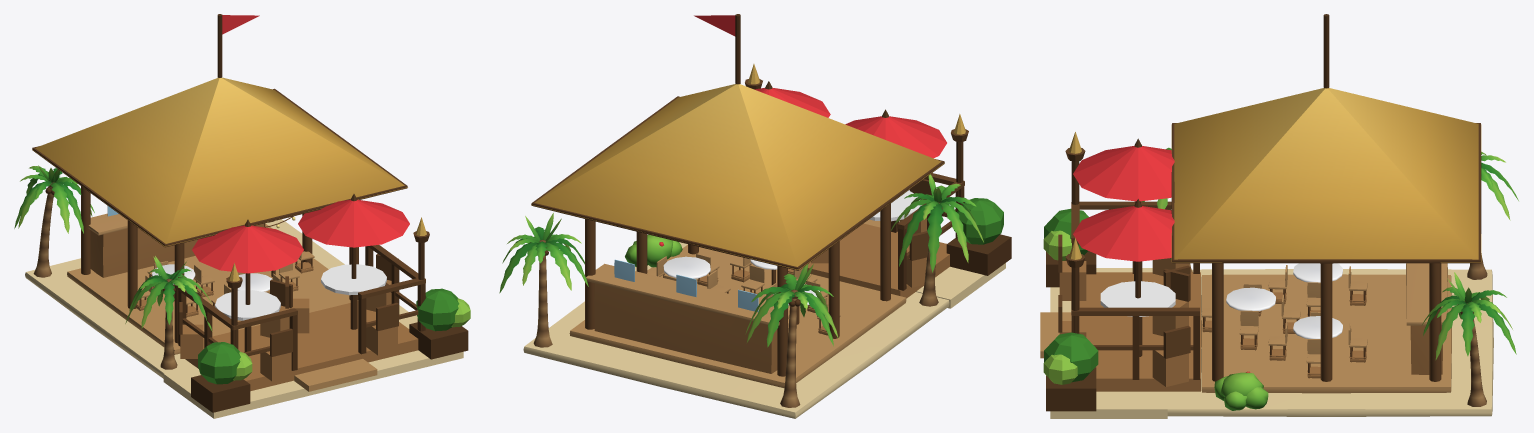
Rendered from Restaurant_L2.obj.
3 renders of one model, left to right at view 1: azimuth 30°, elevation 25°; view 2: azimuth 150°, elevation 25°; view 3: azimuth 270°, elevation 25°, orthographic. The views are drawn at different scales.
Parts seen in each view (by area): view 1: Restaurant_L2; view 2: Restaurant_L2; view 3: Restaurant_L2.
Part boxes in pixels (x1=…): Restaurant_L2: x1=14, y1=14, x2=470, y2=418; Restaurant_L2: x1=499, y1=14, x2=1011, y2=418; Restaurant_L2: x1=1040, y1=14, x2=1518, y2=418.
Size of the model in its own units: 4.9 by 4.39 by 5.73.
Materials: 1 (1 with a texture image).
